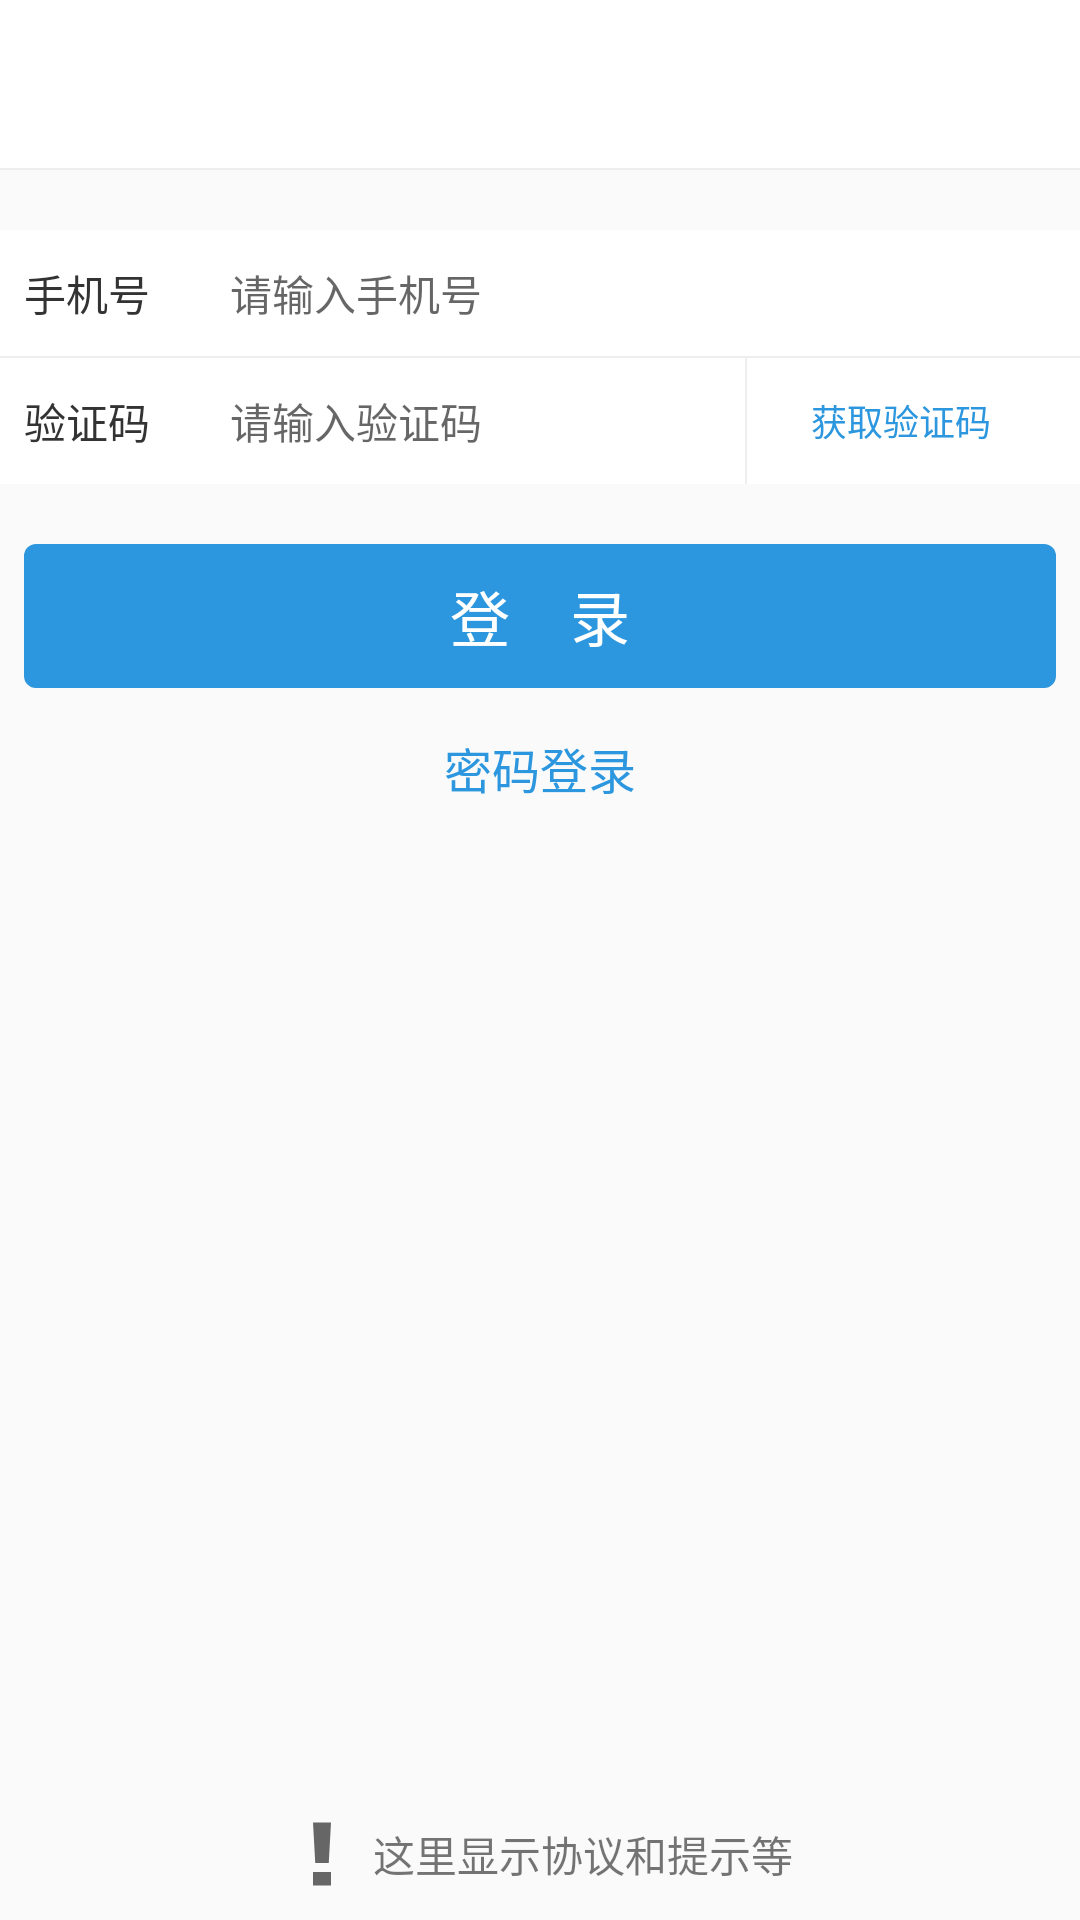

Where to tap for icons on this 1080 × 1920 app screen, as point (x, y):
alert: point (322, 1854)
